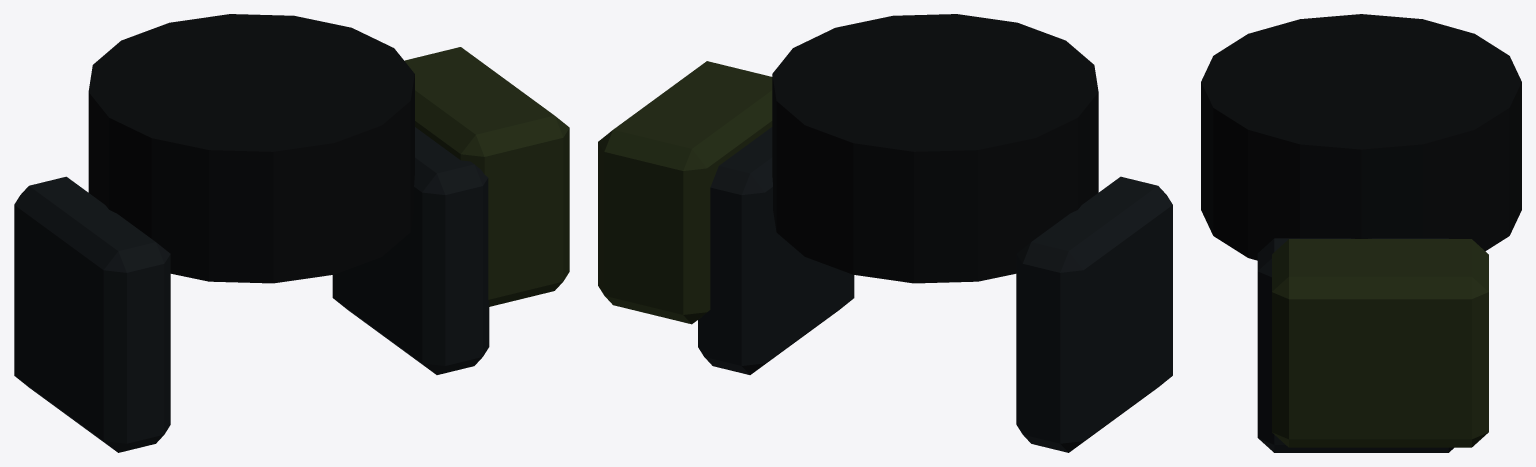
The model's file is ChinMount__Yaw.obj.
3 renders of one model, left to right at view 1: azimuth 30°, elevation 25°; view 2: azimuth 150°, elevation 25°; view 3: azimuth 270°, elevation 25°, orthographic. The views are drawn at different scales.
Parts seen in each view (by area): view 1: Yaw_motor, Elevation_cheek, Elevation_servo, Elevation_cheek.001; view 2: Yaw_motor, Elevation_cheek, Elevation_servo, Elevation_cheek.001; view 3: Yaw_motor, Elevation_servo, Elevation_cheek.001.
Part boxes in pixels (left/top/right/bottom): Yaw_motor: left=88, top=14, right=414, bottom=283; Elevation_cheek: left=14, top=176, right=170, bottom=452; Elevation_servo: left=404, top=47, right=569, bottom=306; Elevation_cheek.001: left=332, top=127, right=489, bottom=374; Yaw_motor: left=772, top=14, right=1098, bottom=283; Elevation_cheek: left=1016, top=176, right=1172, bottom=452; Elevation_servo: left=598, top=61, right=772, bottom=324; Elevation_cheek.001: left=698, top=127, right=854, bottom=374; Yaw_motor: left=1201, top=14, right=1521, bottom=260; Elevation_servo: left=1272, top=239, right=1488, bottom=447; Elevation_cheek.001: left=1257, top=238, right=1453, bottom=452.
Bounding box in the file's own units: 0.565 × 0.335 × 0.34.
